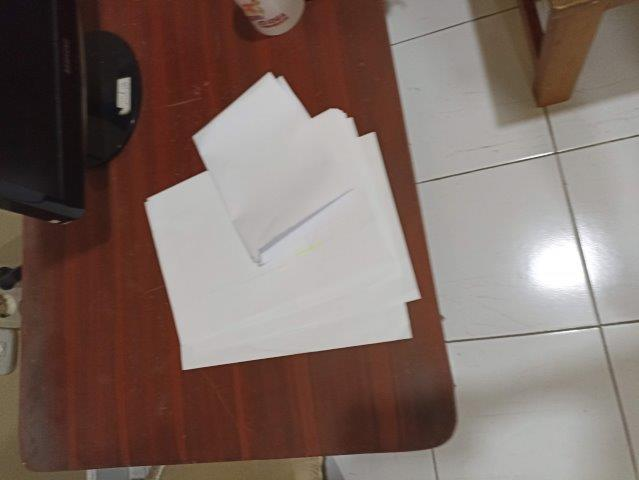kertas: (144, 72, 421, 371)
